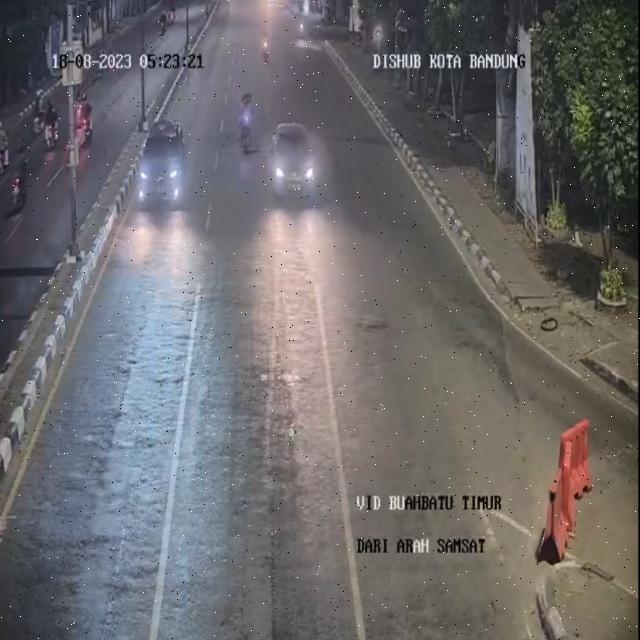cars: (267, 112, 319, 209), (142, 118, 189, 210)
motorcycle: (240, 87, 259, 154)
